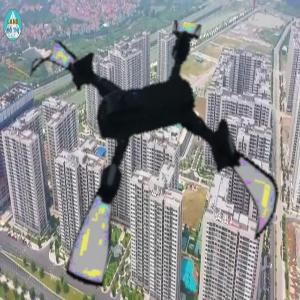drone: (10, 19, 289, 298)
